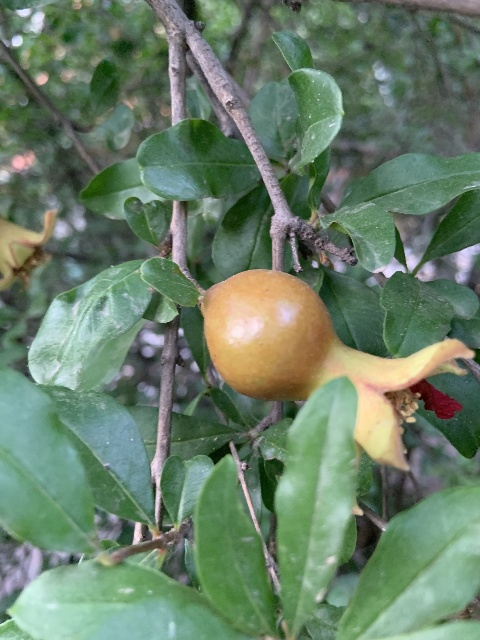early-fruit: (202, 270, 473, 473)
